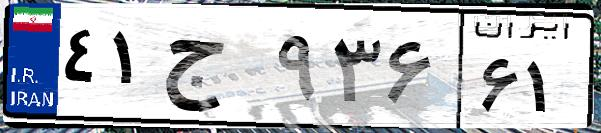1: (525, 38, 570, 115), (110, 28, 158, 98)
3: (330, 28, 385, 110)
4: (57, 26, 110, 100)
6: (385, 28, 445, 110), (475, 38, 525, 113)
9: (270, 28, 330, 110)
ج: (158, 20, 270, 120)
